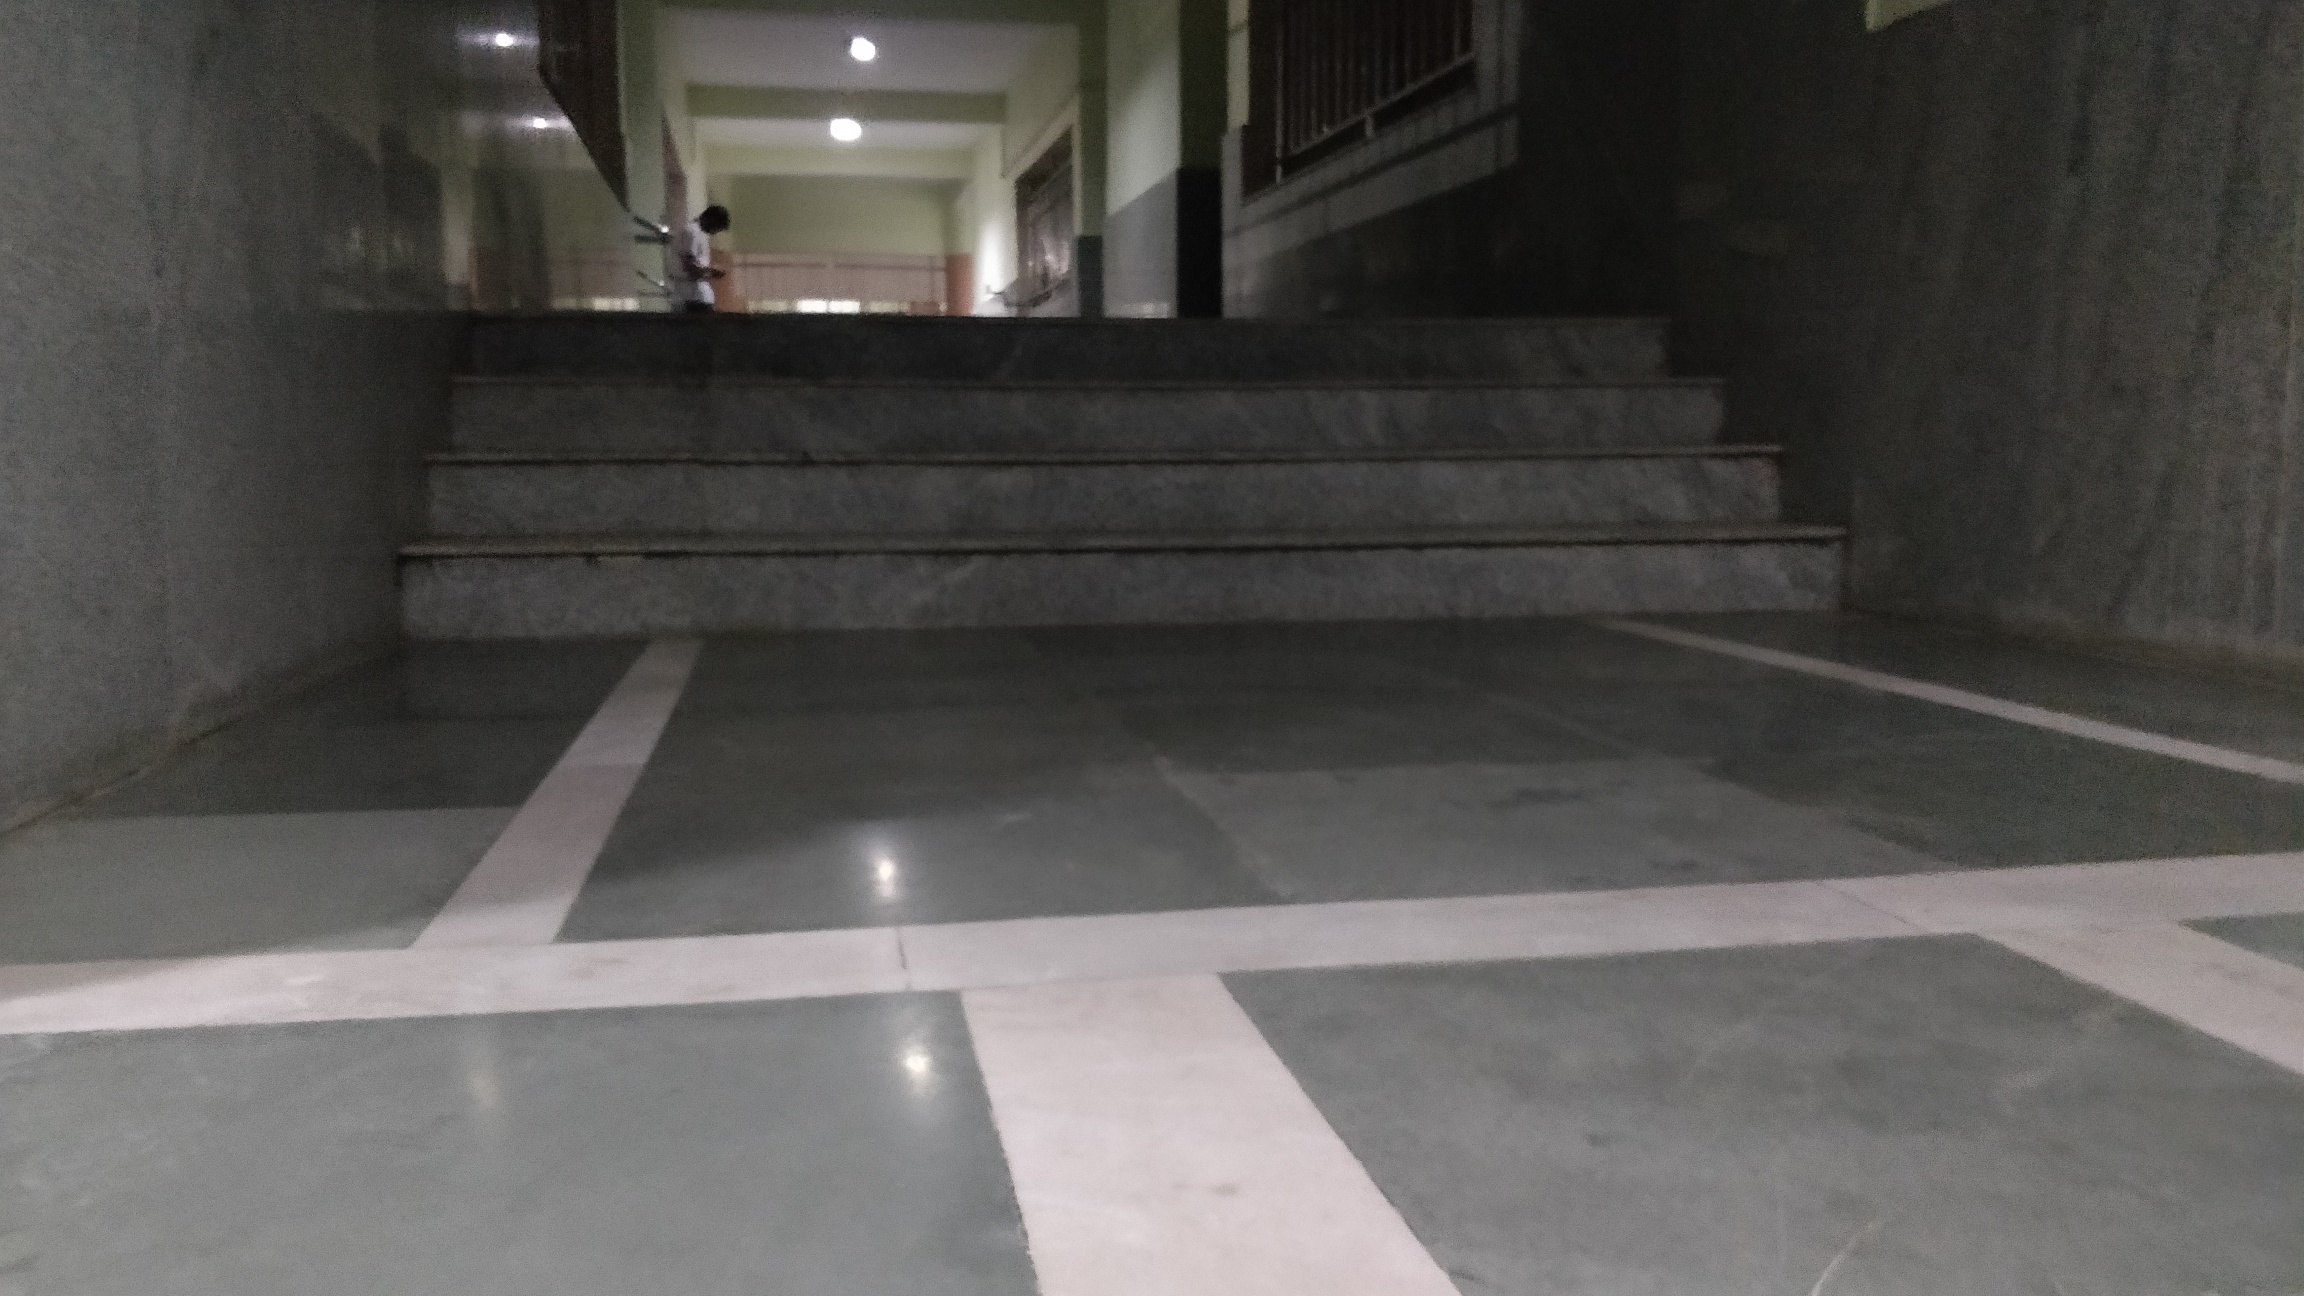stairs_up: (408, 304, 1844, 639)
